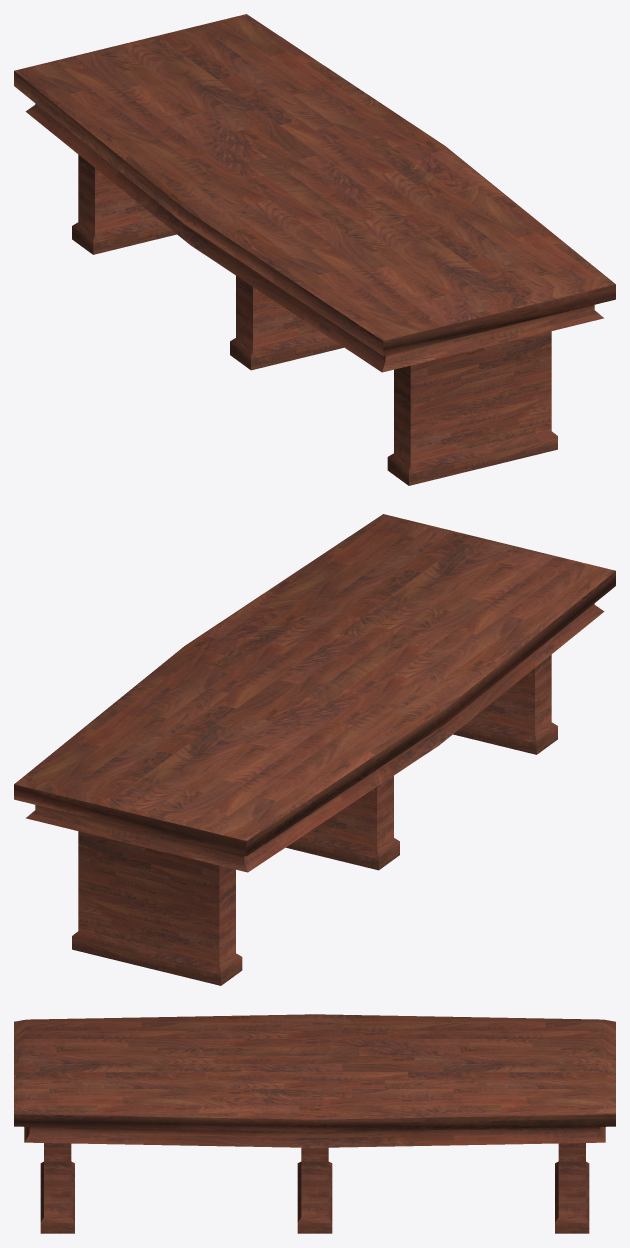
File: Boardroom Table.fbx
3 views of the same model, one above another, from view 1: azimuth 30°, elevation 25°; view 2: azimuth 150°, elevation 25°; view 3: azimuth 270°, elevation 25° (orthographic). The views are drawn at different scales.
Visible parts, largest first — view 1: Boardroom_Table; view 2: Boardroom_Table; view 3: Boardroom_Table.
Boxes of the visible parts, box(x1,y1,x2,y2) form: Boardroom_Table: box(14, 14, 615, 485); Boardroom_Table: box(14, 514, 615, 985); Boardroom_Table: box(14, 1014, 615, 1233).
Size of the model in its own units: 4.47 by 2.83 by 11.
